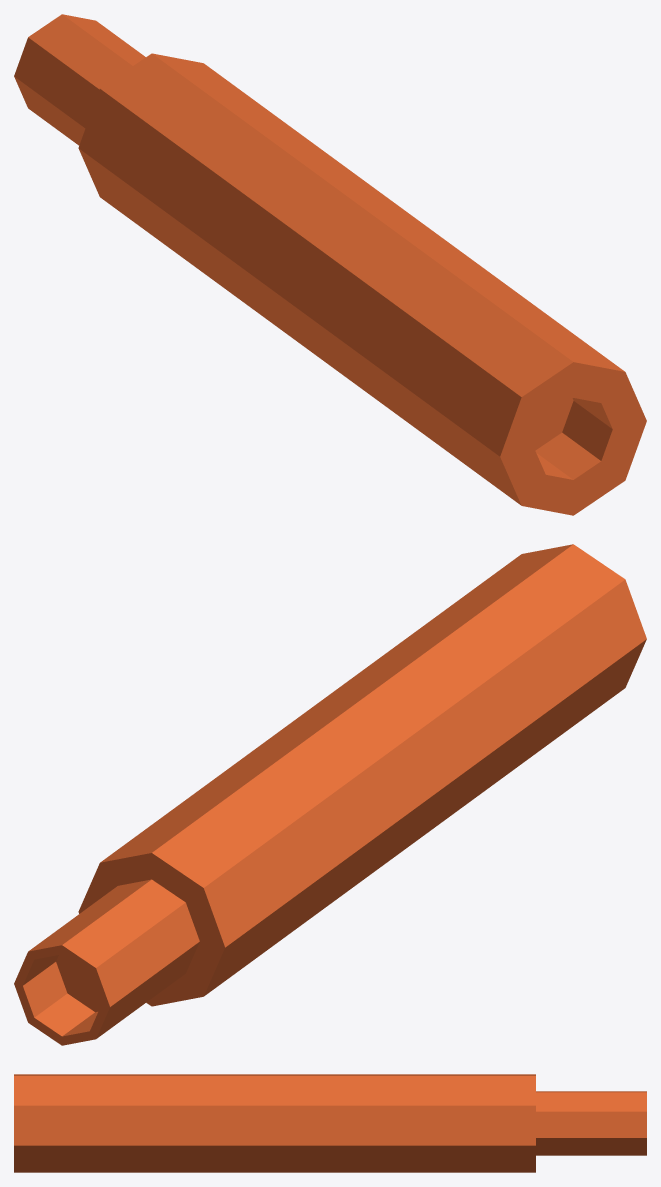
Rendered from acc_Rifle_9_supressor.fbx.
3 views of the same model, one above another, from view 1: azimuth 30°, elevation 25°; view 2: azimuth 150°, elevation 25°; view 3: azimuth 270°, elevation 25° (orthographic). The views are drawn at different scales.
Visible parts, largest first — view 1: acc_Rifle_9_supressor; view 2: acc_Rifle_9_supressor; view 3: acc_Rifle_9_supressor.
Boxes of the visible parts, <box> form: acc_Rifle_9_supressor: <box>14,14,646,515</box>; acc_Rifle_9_supressor: <box>14,544,646,1045</box>; acc_Rifle_9_supressor: <box>14,1074,646,1172</box>.
Size of the model in its own units: 21.85 by 21.85 by 132.
